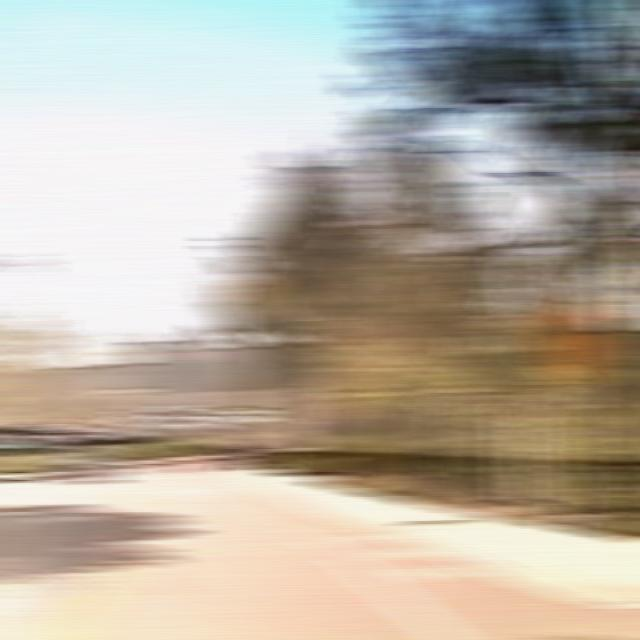stop_sign: (307, 394, 346, 422)
